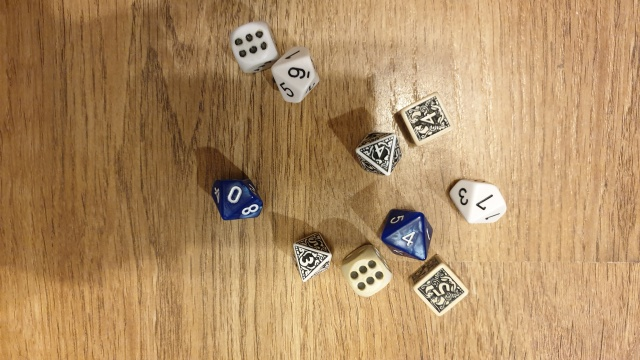d10-10: (203, 170, 273, 228)
d10-4: (379, 205, 435, 265)
d10-7: (440, 168, 512, 229)
d10-9: (268, 41, 323, 110)
d6-6: (338, 237, 398, 300), (225, 17, 281, 77)
d6p-4: (397, 90, 455, 147)
d6p-5: (408, 253, 478, 324)
d8p-3: (288, 225, 333, 285)
d8p-4: (351, 124, 405, 180)
